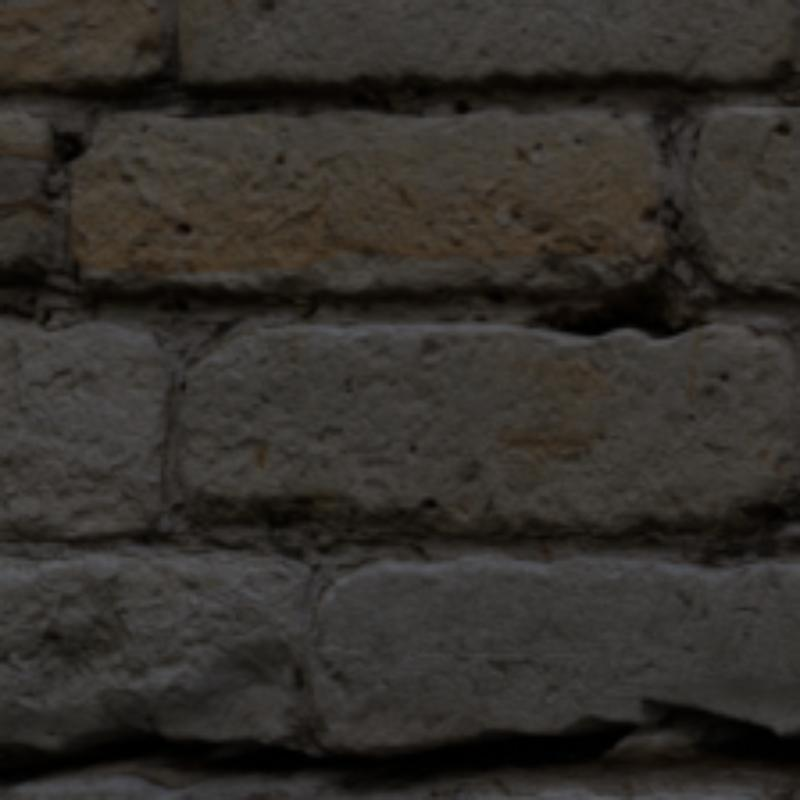pothole: (0, 696, 796, 793), (539, 282, 686, 336)
